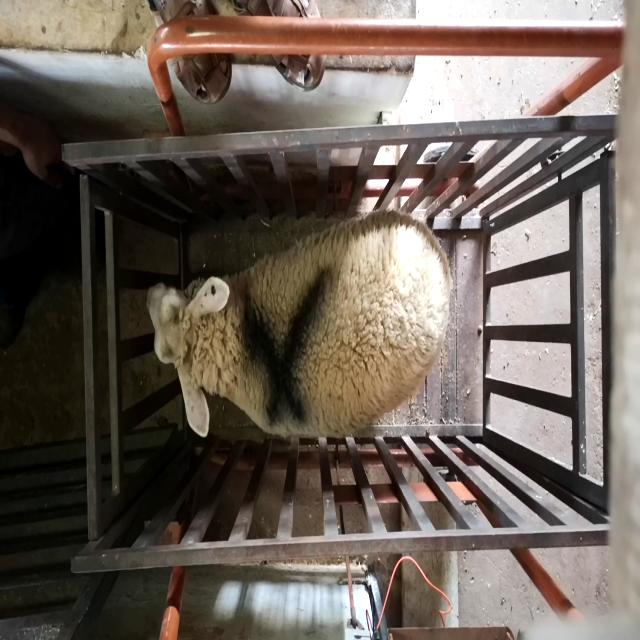sheep: (146, 210, 455, 439)
